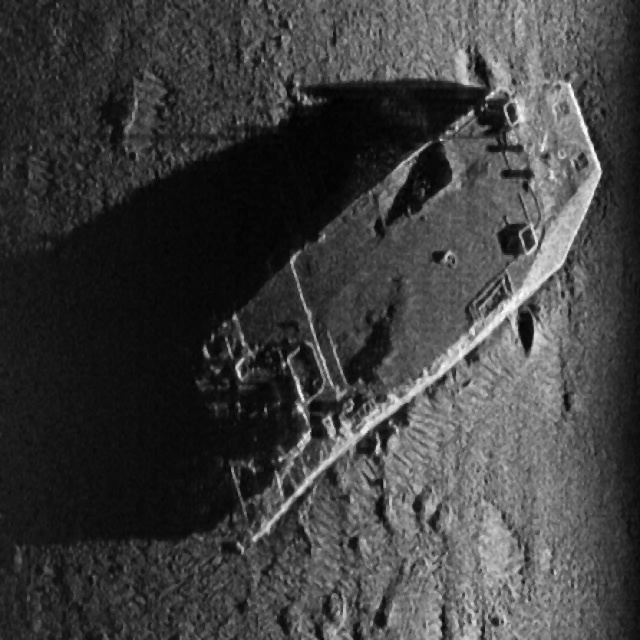Ship: (177, 61, 609, 556)
